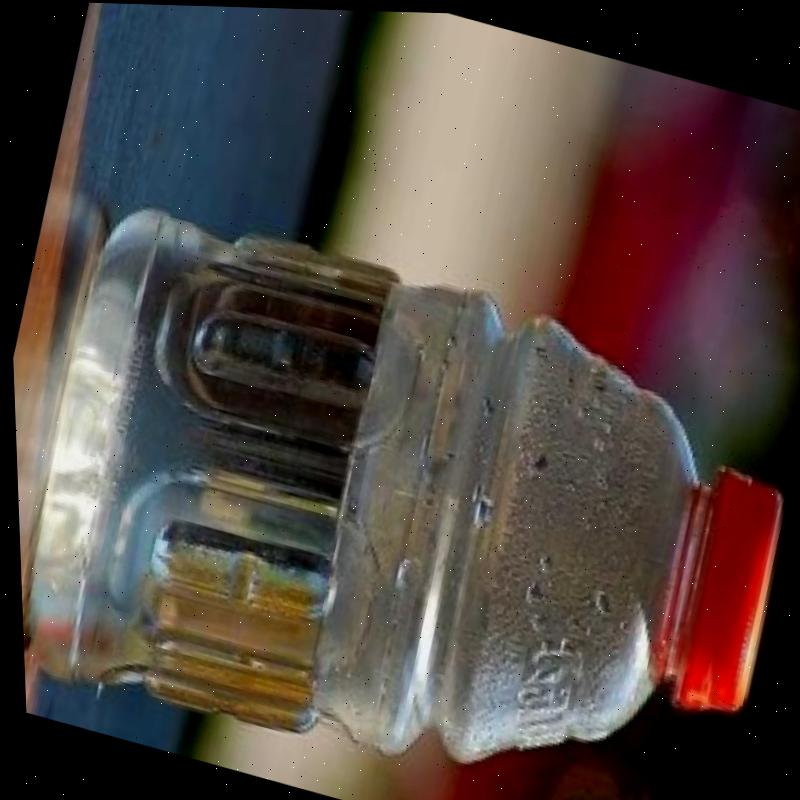botella: (5, 182, 800, 800)
